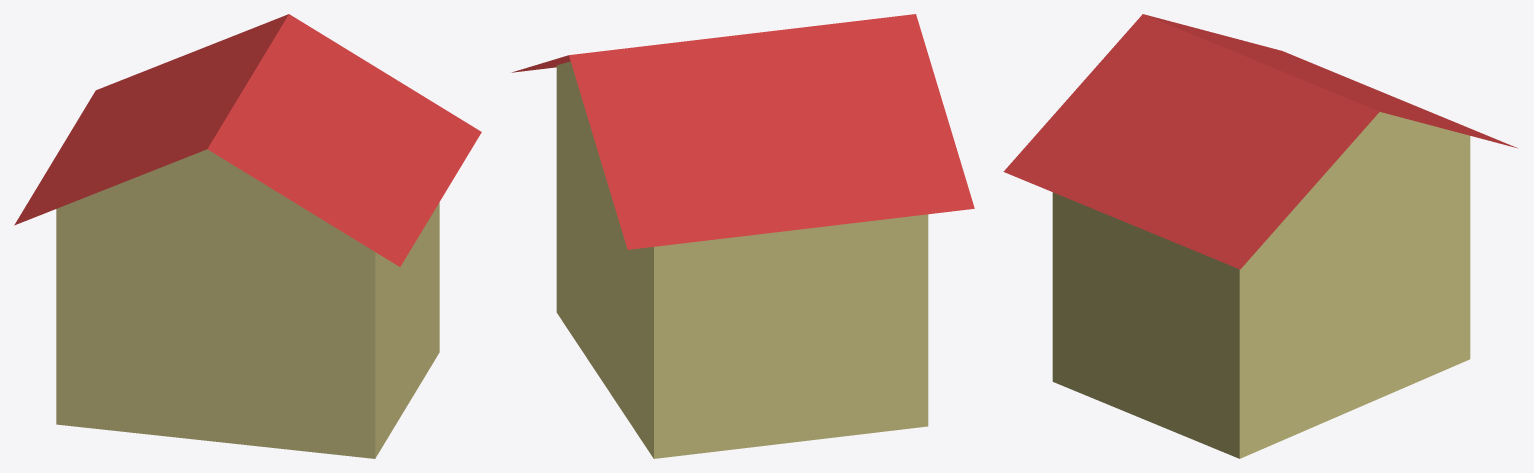
3 renders of one model, left to right at view 1: azimuth 30°, elevation 25°; view 2: azimuth 150°, elevation 25°; view 3: azimuth 270°, elevation 25°, orthographic. The views are drawn at different scales.
Size of the model in its own units: 14.89 by 14.86 by 9.77.
